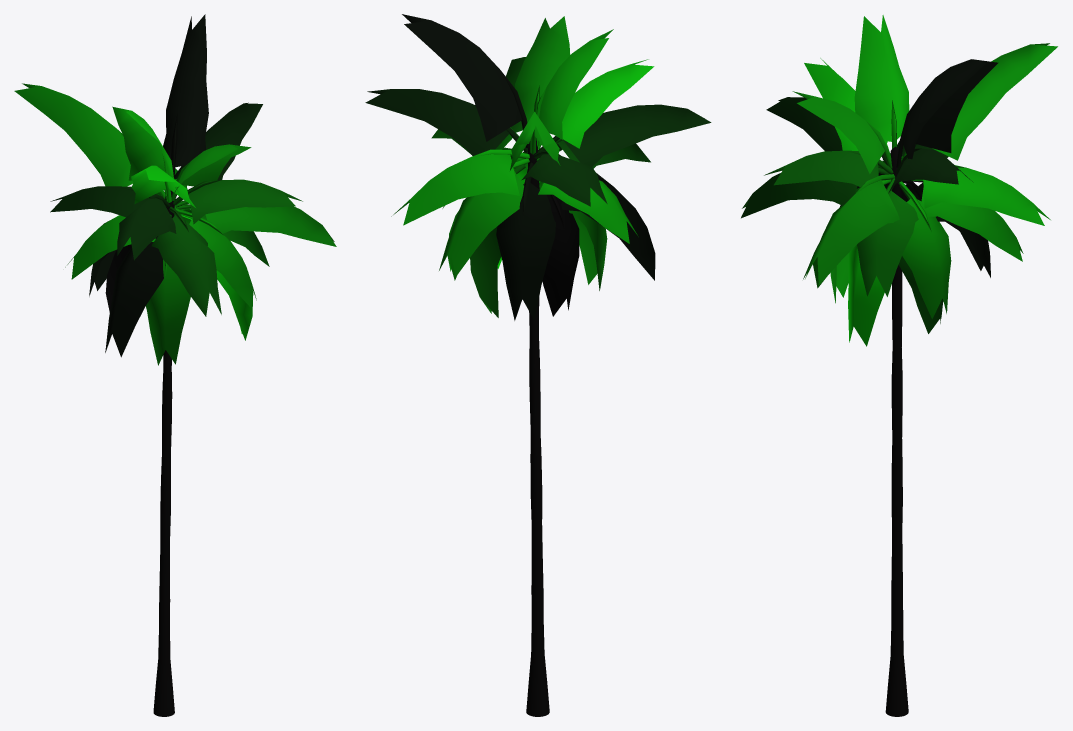
File: M_P10_Tree_11.fbx
3 views of the same model, side by side, from view 1: azimuth 30°, elevation 25°; view 2: azimuth 150°, elevation 25°; view 3: azimuth 270°, elevation 25° (orthographic). The views are drawn at different scales.
Parts seen in each view (by area): view 1: Palm_2_3; view 2: Palm_2_3; view 3: Palm_2_3.
Part boxes in pixels (box(x1,y1,x2,y2)): Palm_2_3: box(14, 14, 336, 716); Palm_2_3: box(365, 14, 711, 716); Palm_2_3: box(741, 15, 1057, 716).
Bounding box in the file's own units: 237 × 618 × 258.
